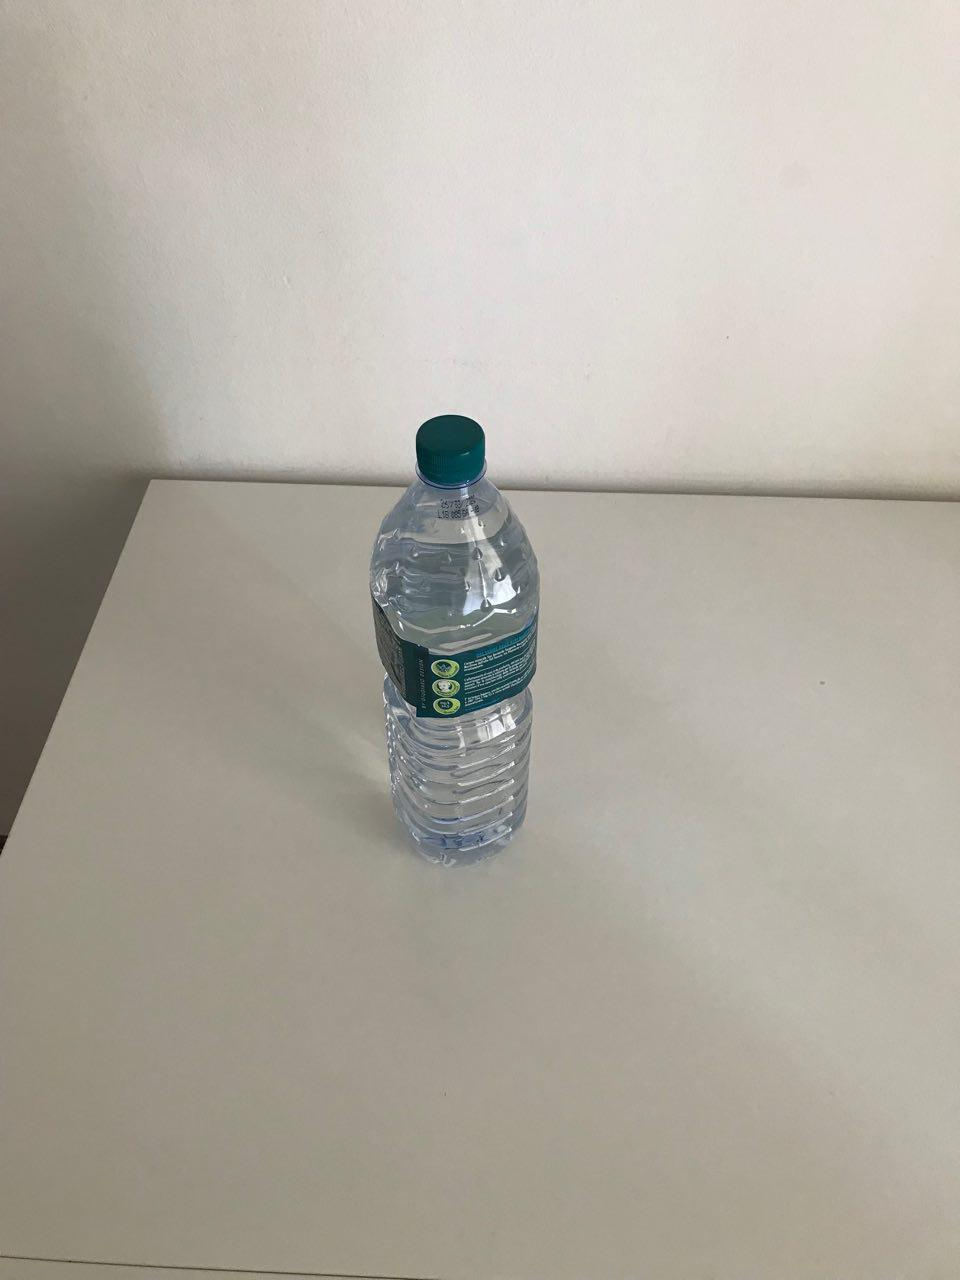san_bernardo: (367, 412, 542, 873)
